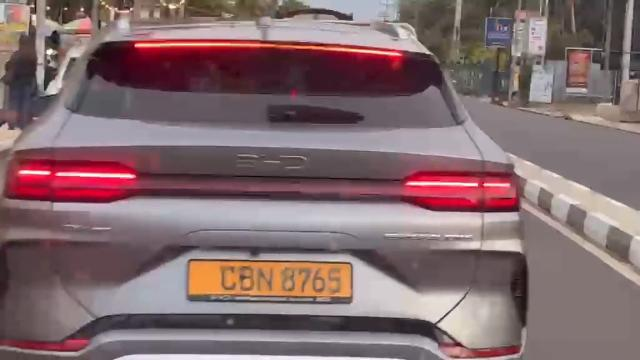number plate: (183, 253, 373, 316)
